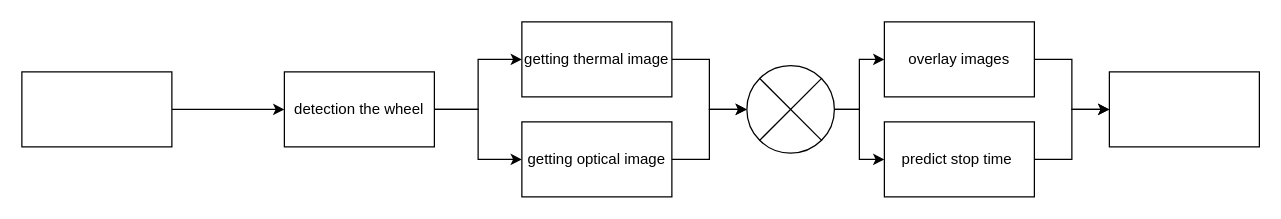
The diagram is 1281 pixels wide and 219 high, and some of its shapes have lost their labels. Here are the shapes that lost their labels. From the top down, the centre of each, then its label:
At point (96, 109): "camera".
At point (1183, 109): "show the overlay image and stop time".
